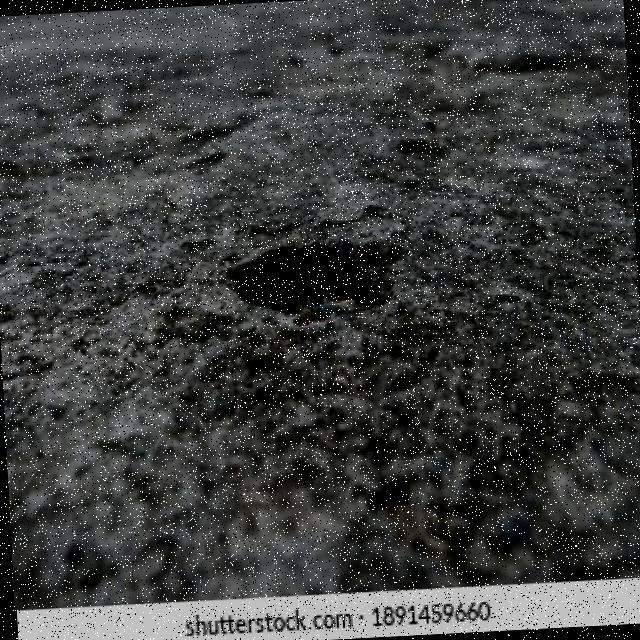Pothole: (233, 242, 407, 316)
